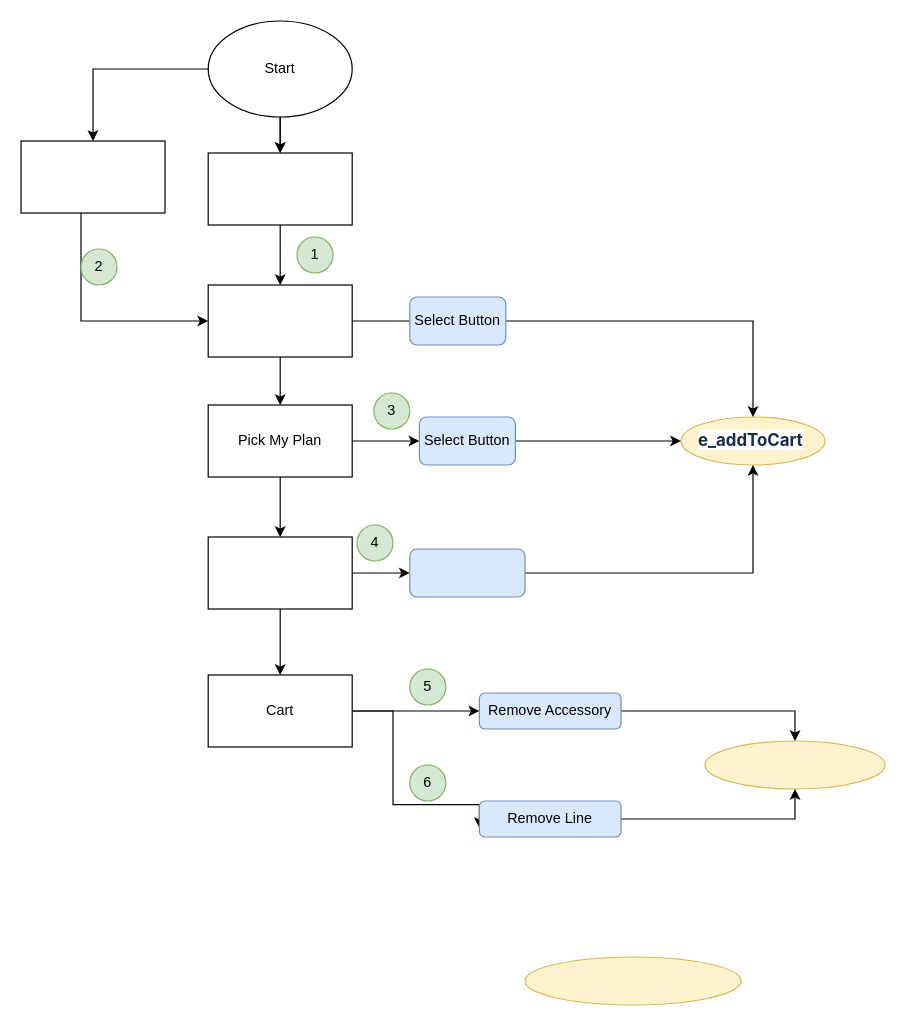
The diagram is 906 pixels wide and 1026 high, and some of its shapes have lost their labels. Each missing label, with the centre of its shape:
"Accessory" goes at [279,572].
"BYOD" goes at [92,176].
"Continue Button" goes at [467,572].
"Device details" goes at [279,320].
"Device List" goes at [279,188].
"e_removeFromCart" goes at [794,764].
"e_transactionComplete" goes at [632,980].
